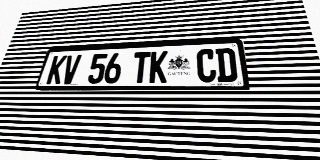5: (87, 53, 108, 84)
6: (103, 53, 123, 84)
C: (196, 49, 217, 82)
D: (215, 48, 238, 82)
K: (46, 55, 67, 84), (149, 51, 168, 83)
T: (131, 52, 151, 83)
V: (60, 55, 82, 84)
